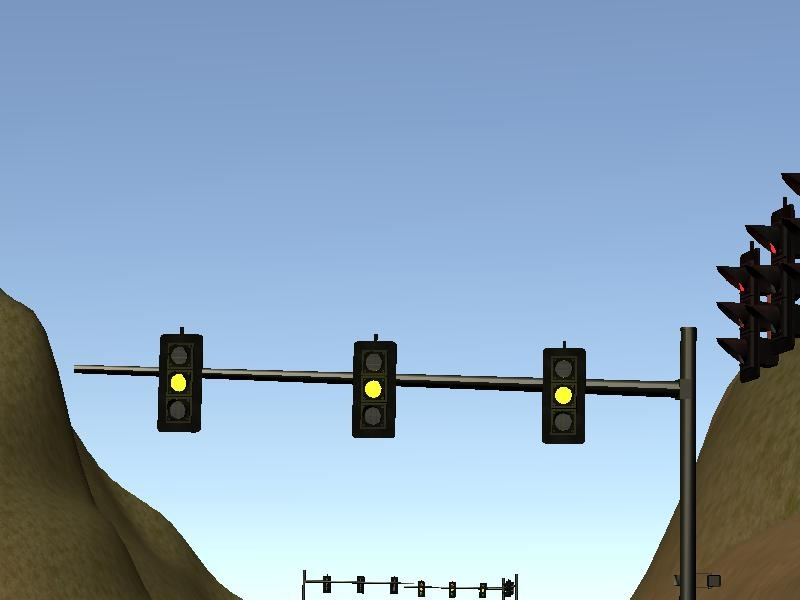YELLOW: (540, 347, 587, 446), (350, 341, 397, 440), (155, 332, 202, 431)
